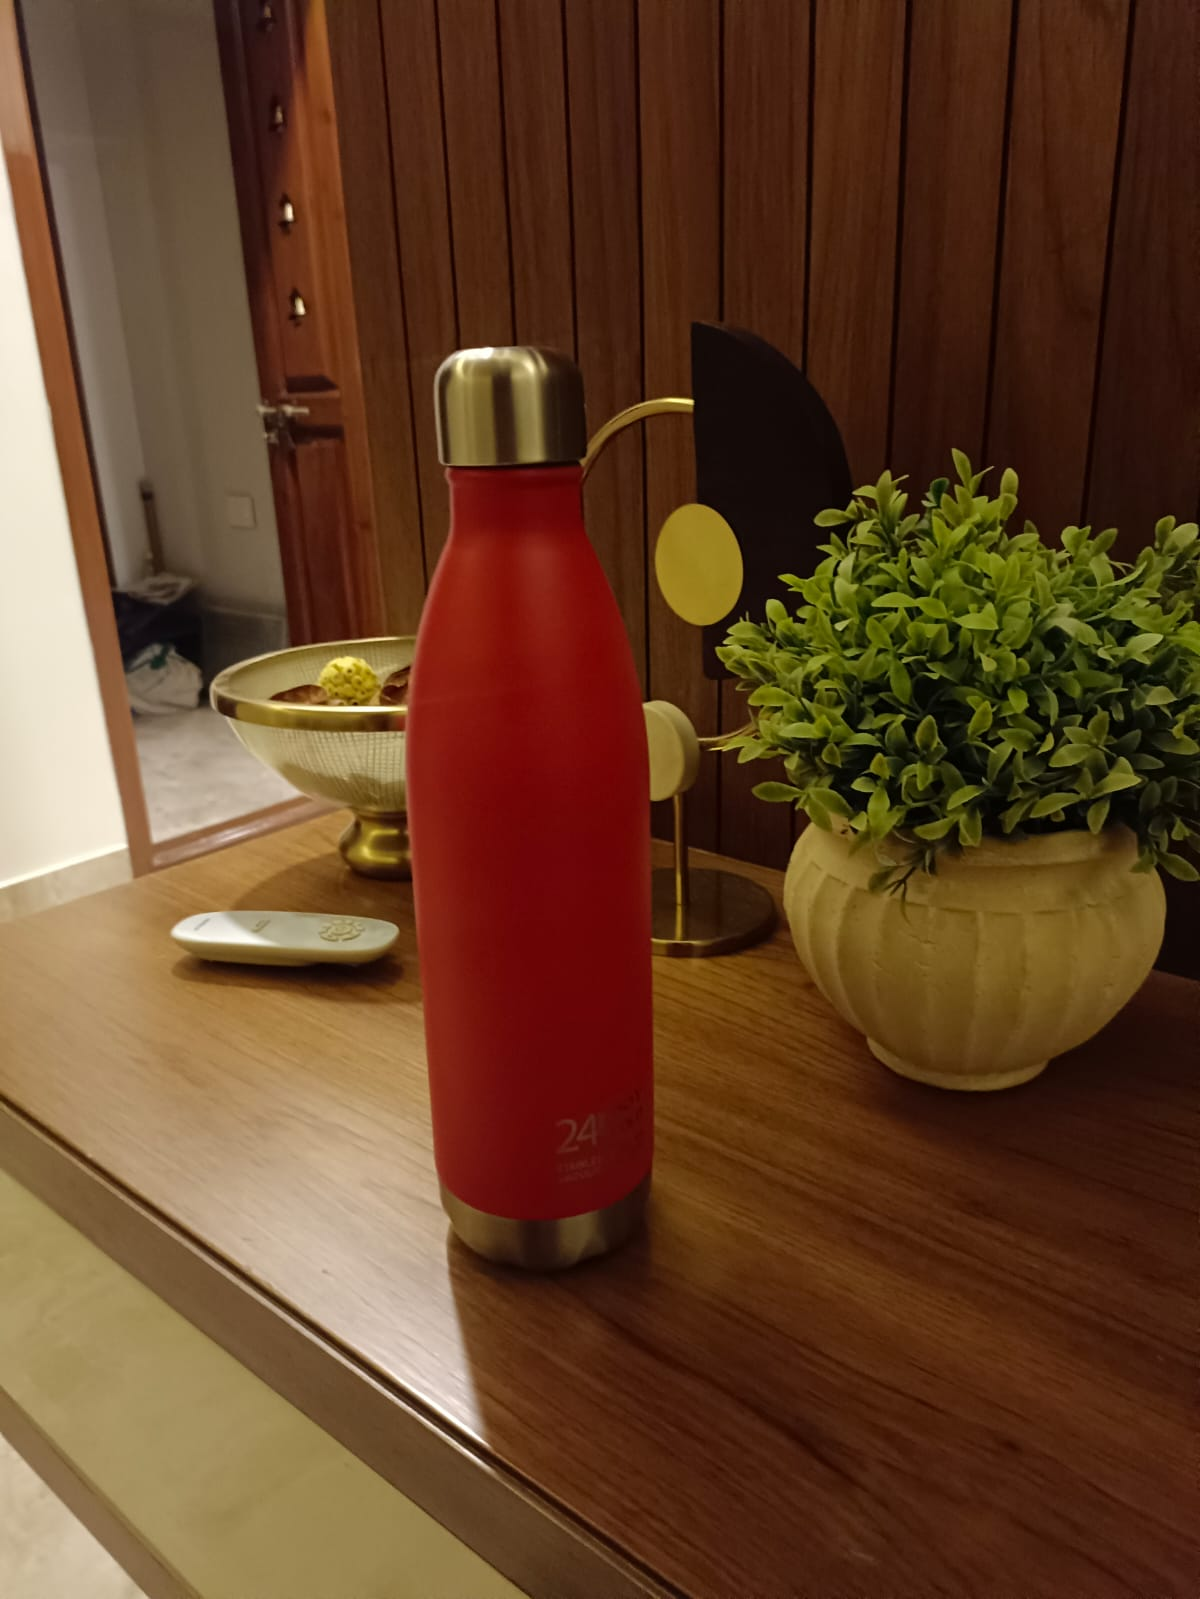bottle: (393, 336, 668, 1285)
